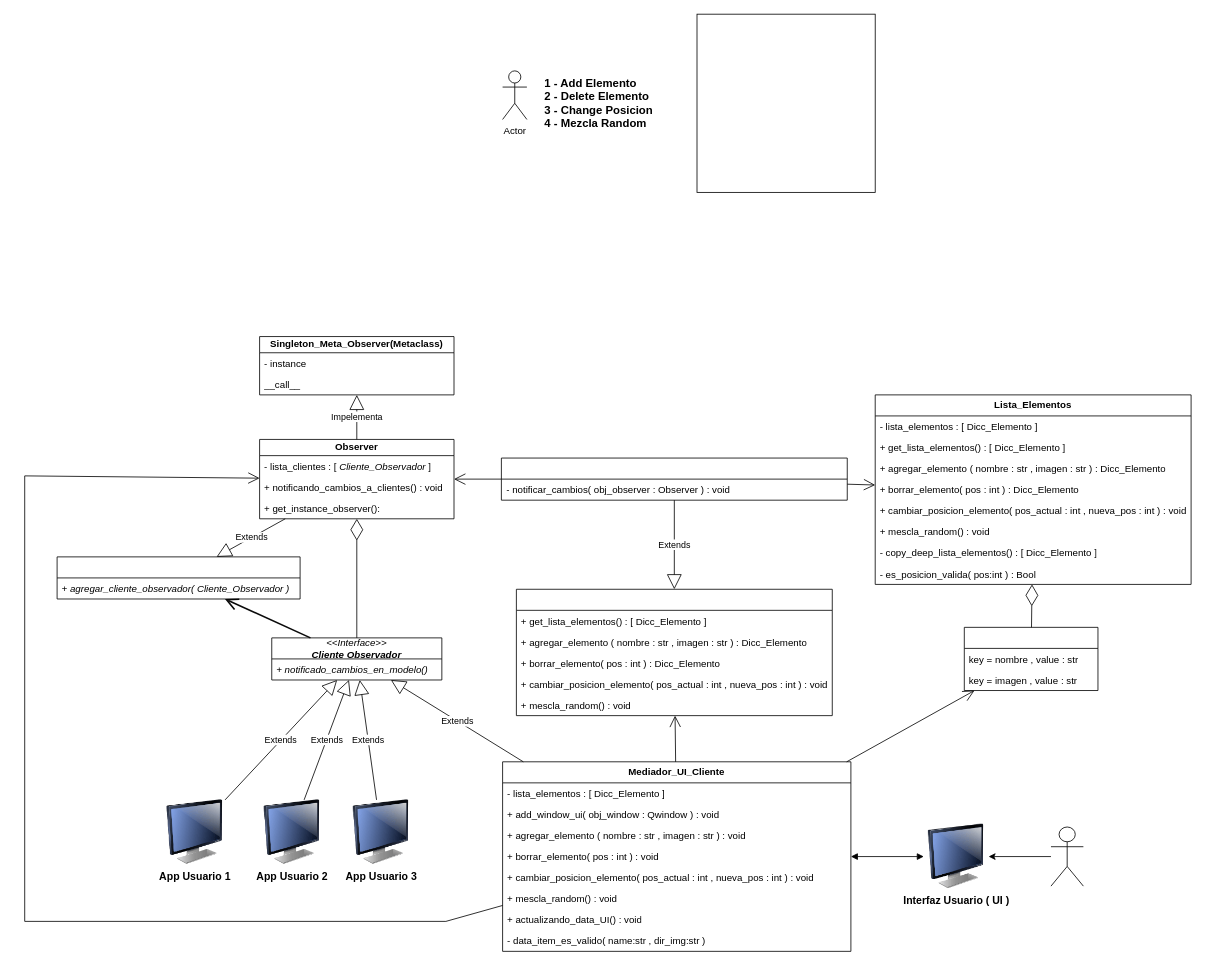
Image size: 1205x968. Some labels were removed from this diagram. The box of each missing label's shape, as (x1, y1, x2, y2) in pixels:
<<Interface>> Agregar_Cliente: (56, 556, 300, 599)
<<Interface>> Mediador_Backend: (516, 588, 832, 716)
Dicc_Elemento (JSON): (963, 627, 1098, 691)
Mediador: (501, 457, 847, 500)
USUARIO: (1050, 826, 1083, 886)
